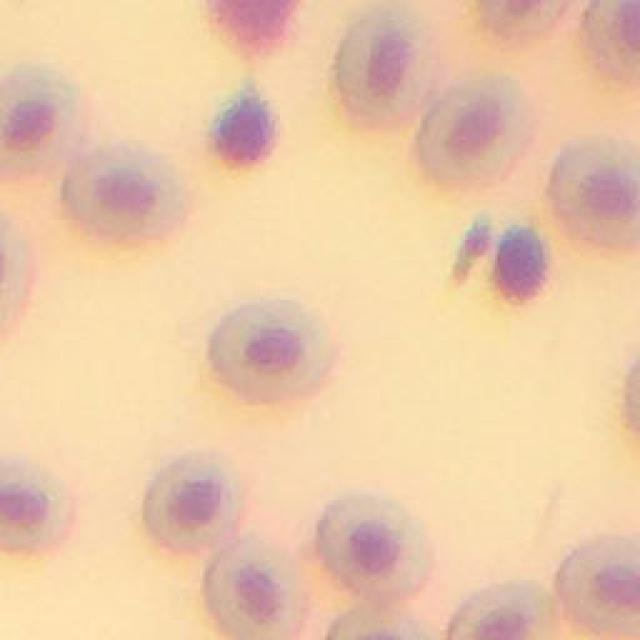RBC: (335, 6, 438, 130), (210, 300, 332, 402), (420, 78, 532, 185), (318, 495, 428, 602), (65, 145, 185, 239), (203, 540, 306, 640), (550, 140, 640, 248), (145, 453, 240, 552), (0, 68, 82, 176), (558, 539, 640, 638), (0, 458, 70, 551), (451, 582, 558, 640), (585, 0, 640, 85), (482, 1, 572, 40), (328, 608, 438, 639)
WBC: (212, 82, 278, 165), (206, 0, 300, 55), (495, 228, 550, 302)
